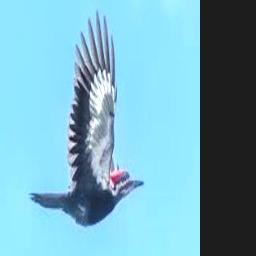Woodpecker: (28, 9, 145, 226)
